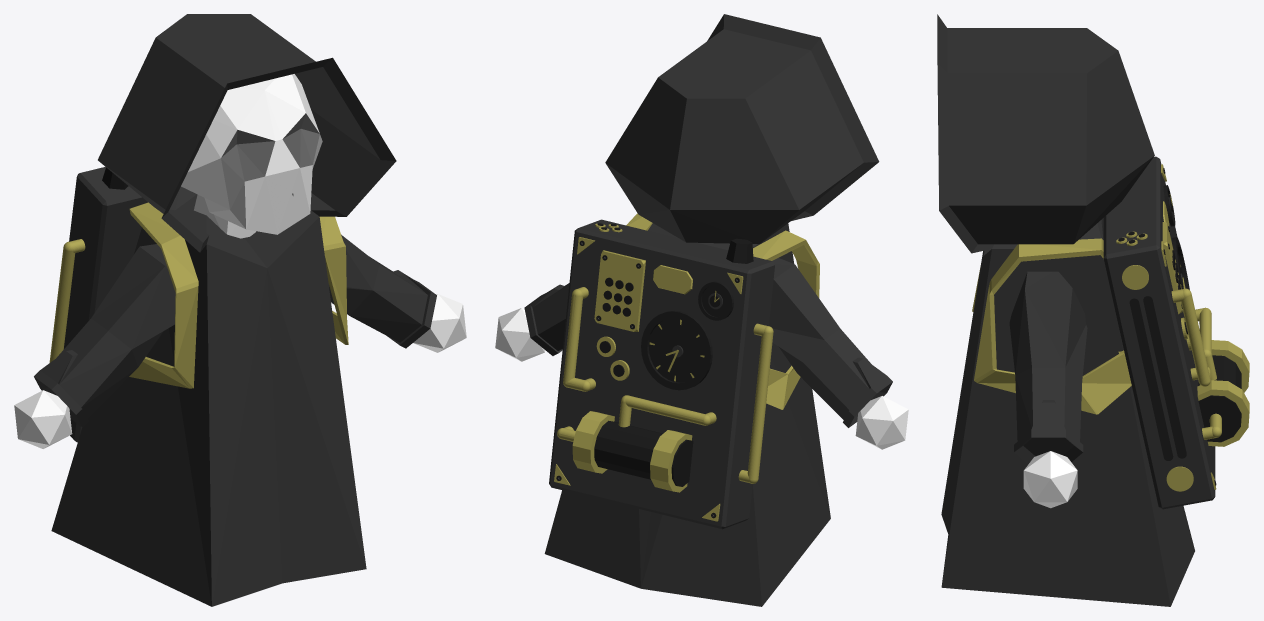
File: avatar-static.dae
3 renders of one model, left to right at view 1: azimuth 30°, elevation 25°; view 2: azimuth 150°, elevation 25°; view 3: azimuth 270°, elevation 25°, orthographic. The views are drawn at different scales.
Visible parts, largest first — view 1: Cylinder_001; view 2: Cylinder_001; view 3: Cylinder_001.
Boxes of the visible parts, x1,y1,x2,y2 form: Cylinder_001: (14, 14, 466, 606); Cylinder_001: (495, 14, 908, 606); Cylinder_001: (937, 14, 1249, 606).
Size of the model in its own units: 2.73 by 1.71 by 3.05.
